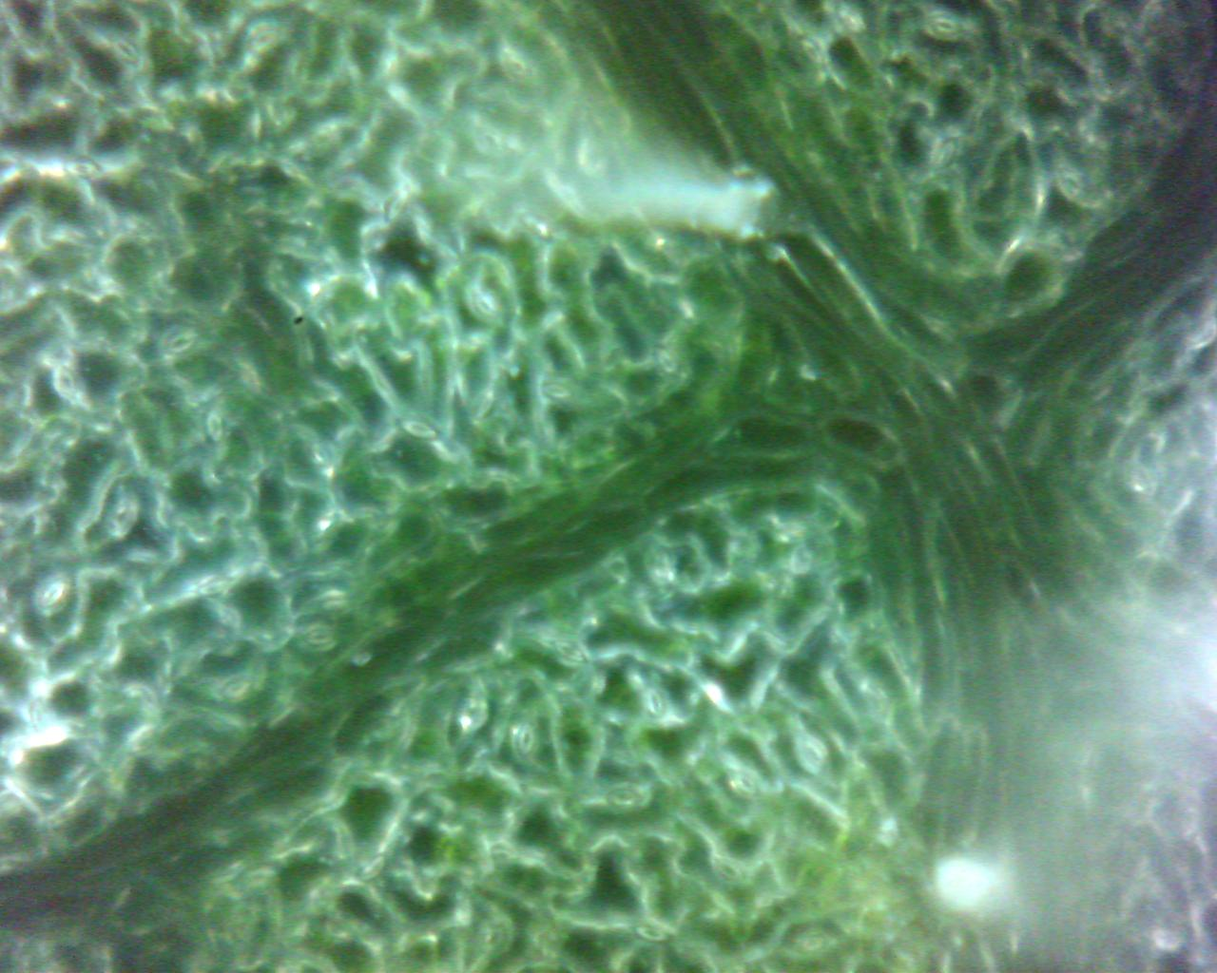stomata: (396, 416, 443, 442), (63, 155, 103, 185), (385, 185, 411, 225), (633, 921, 676, 944), (203, 407, 227, 447), (304, 623, 338, 651), (112, 36, 141, 68), (481, 923, 508, 957), (654, 346, 681, 380), (610, 785, 646, 810), (198, 575, 235, 599), (515, 720, 538, 758), (504, 51, 532, 82), (805, 736, 829, 772), (252, 29, 285, 55), (220, 677, 257, 700), (164, 330, 200, 353), (933, 137, 957, 171), (522, 215, 552, 241), (802, 36, 826, 68), (931, 15, 962, 39), (476, 389, 498, 422), (556, 639, 588, 661), (543, 379, 573, 402), (41, 580, 67, 606), (29, 696, 48, 730), (356, 855, 386, 876), (797, 933, 830, 952), (59, 368, 77, 402), (717, 859, 744, 880), (476, 292, 497, 318), (734, 772, 760, 793), (647, 689, 666, 717), (840, 10, 864, 32), (312, 440, 331, 467), (1062, 171, 1084, 194)
